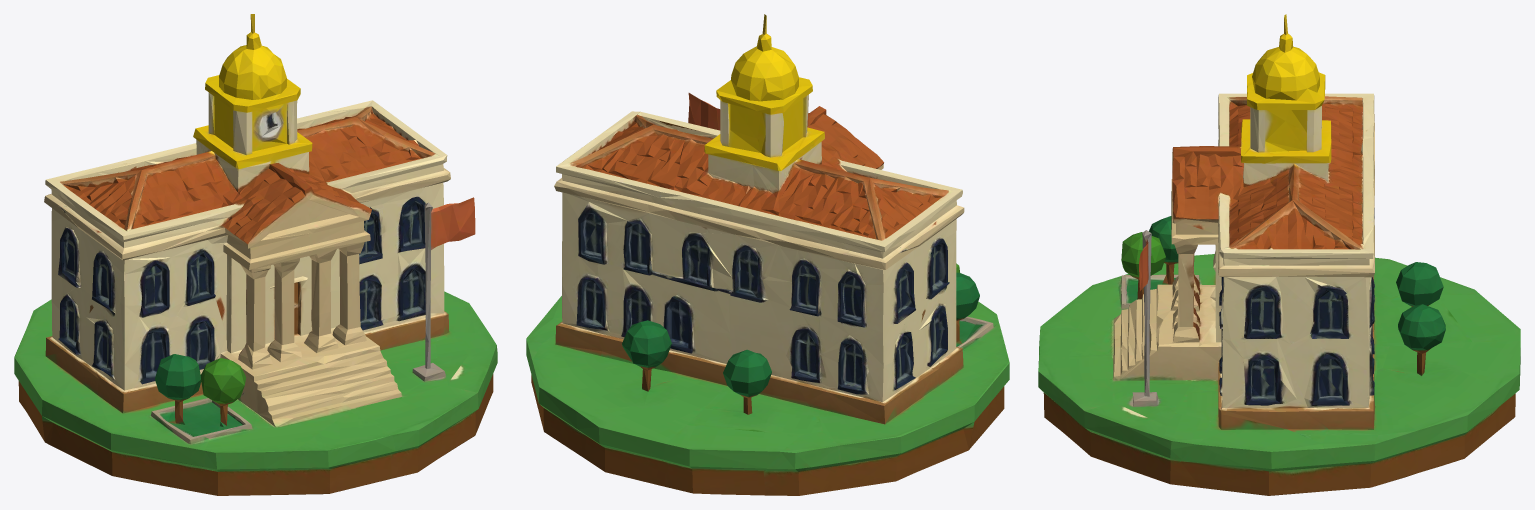
Rendered from rio-prefeitura.glb.
3 views of the same model, side by side, from view 1: azimuth 30°, elevation 25°; view 2: azimuth 150°, elevation 25°; view 3: azimuth 270°, elevation 25° (orthographic).
Parts seen in each view (by area): view 1: tripo_node_fc1b6b23-928e-4164-9d11-f1787a82fb60; view 2: tripo_node_fc1b6b23-928e-4164-9d11-f1787a82fb60; view 3: tripo_node_fc1b6b23-928e-4164-9d11-f1787a82fb60.
Part boxes in pixels (x1,y1,x2,y2): tripo_node_fc1b6b23-928e-4164-9d11-f1787a82fb60: [14, 14, 497, 495]; tripo_node_fc1b6b23-928e-4164-9d11-f1787a82fb60: [526, 14, 1009, 495]; tripo_node_fc1b6b23-928e-4164-9d11-f1787a82fb60: [1038, 14, 1520, 495].
Bounding box in the file's own units: 0.9998 × 0.8688 × 0.9973.
1 material, 1 textured.
